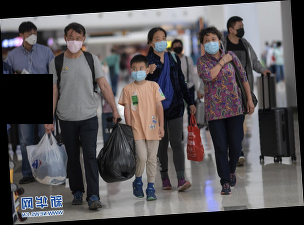with_mask: (65, 32, 83, 54), (203, 35, 220, 55), (152, 33, 168, 53), (131, 64, 147, 83), (24, 29, 38, 46), (232, 21, 245, 39), (172, 43, 183, 55)
